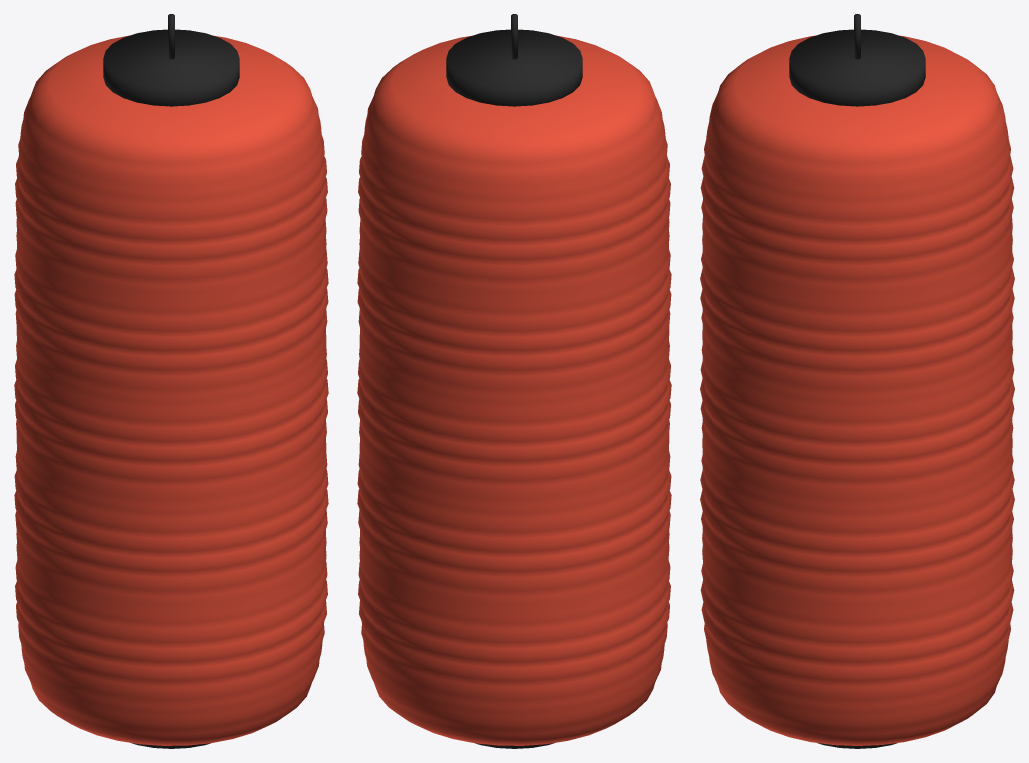
File: chochin_tall.glb
The picture shows the model from 3 angles, left to right: view 1: azimuth 30°, elevation 25°; view 2: azimuth 150°, elevation 25°; view 3: azimuth 270°, elevation 25°; orthographic projection.
Visible parts, largest first — view 1: paper, caps; view 2: paper, caps; view 3: paper, caps.
Boxes of the visible parts, x1=… form: paper: x1=14, y1=35, x2=328, y2=745; caps: x1=103, y1=14, x2=239, y2=748; paper: x1=357, y1=35, x2=671, y2=745; caps: x1=446, y1=14, x2=582, y2=748; paper: x1=700, y1=35, x2=1014, y2=745; caps: x1=789, y1=14, x2=925, y2=748.
Bounding box in the file's own units: 0.733 × 1.81 × 0.733.
